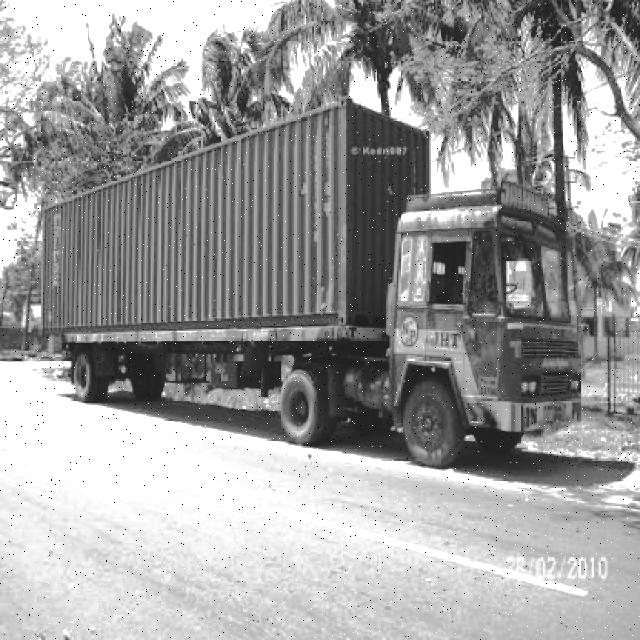HCV: (17, 163, 563, 432)
